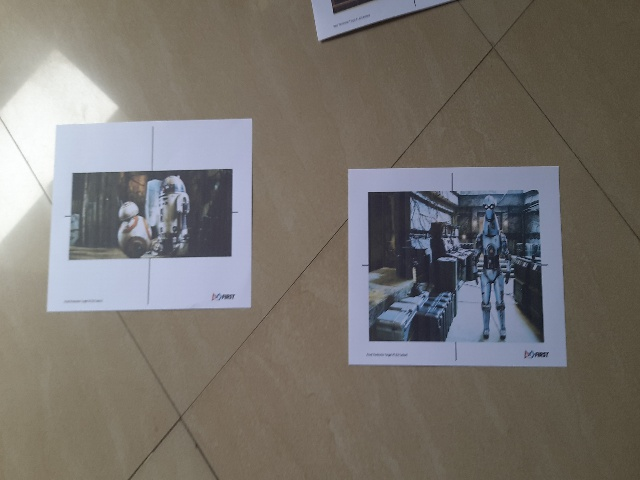fpt1: (350, 171, 576, 373)
fpt2: (65, 155, 243, 284)
